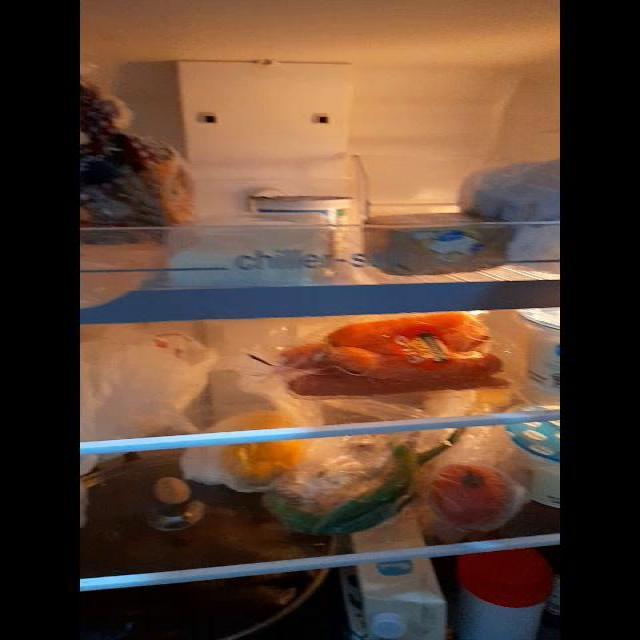bread: (80, 129, 191, 239)
butter: (372, 215, 496, 267)
carrot: (300, 325, 504, 390)
cheese: (177, 220, 323, 276)
green chilies: (334, 452, 426, 517)
lemon: (228, 414, 303, 477)
milk: (351, 563, 445, 640)
tomato: (431, 460, 508, 521)
yoghurt: (512, 421, 559, 499), (253, 194, 351, 228), (523, 310, 561, 387)
